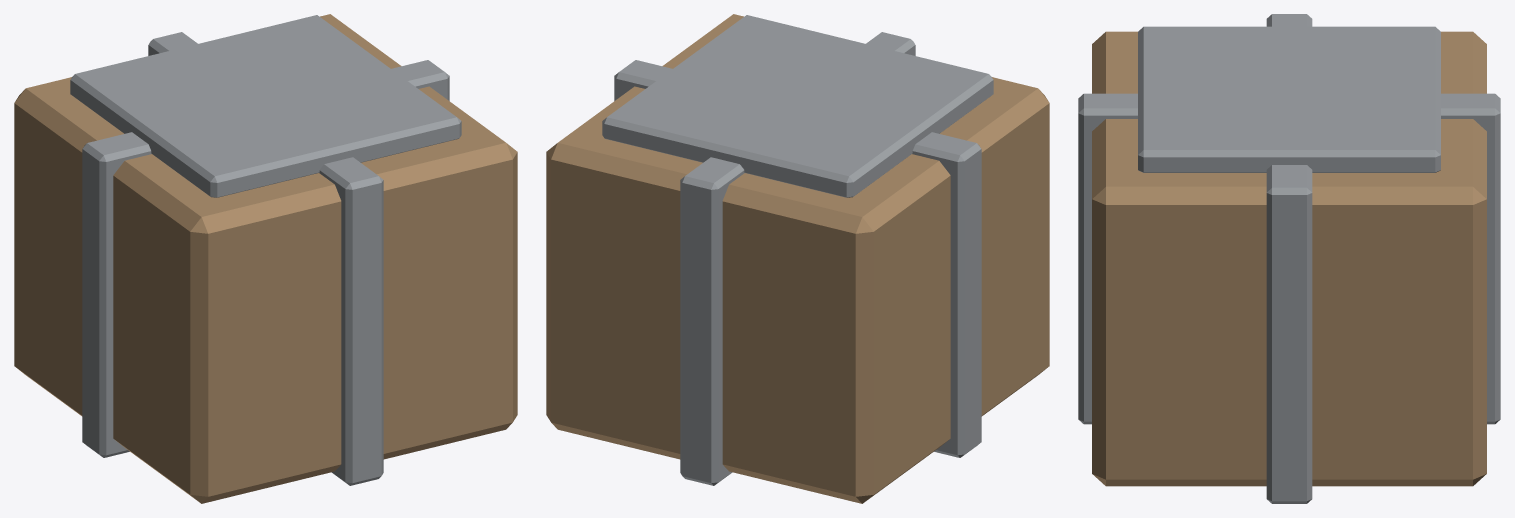
File: prop_crate.glb
3 views of the same model, side by side, from view 1: azimuth 30°, elevation 25°; view 2: azimuth 150°, elevation 25°; view 3: azimuth 270°, elevation 25° (orthographic). The views are drawn at different scales.
Parts seen in each view (by area): view 1: Cube, Cube.003, Cube.002, Cube.001; view 2: Cube, Cube.003, Cube.002, Cube.001; view 3: Cube, Cube.003, Cube.001, Cube.002.
Part boxes in pixels (x1,y1,x2,y2): Cube: (14,14,517,503); Cube.003: (70,15,461,197); Cube.002: (148,32,383,485); Cube.001: (82,60,449,457); Cube: (546,14,1049,503); Cube.003: (602,15,993,197); Cube.002: (680,32,915,485); Cube.001: (614,60,981,457); Cube: (1092,31,1486,486); Cube.003: (1138,26,1440,172); Cube.001: (1266,14,1312,503); Cube.002: (1078,93,1500,424).
Bounding box in the file's own units: 0.92 × 0.79 × 0.92.
